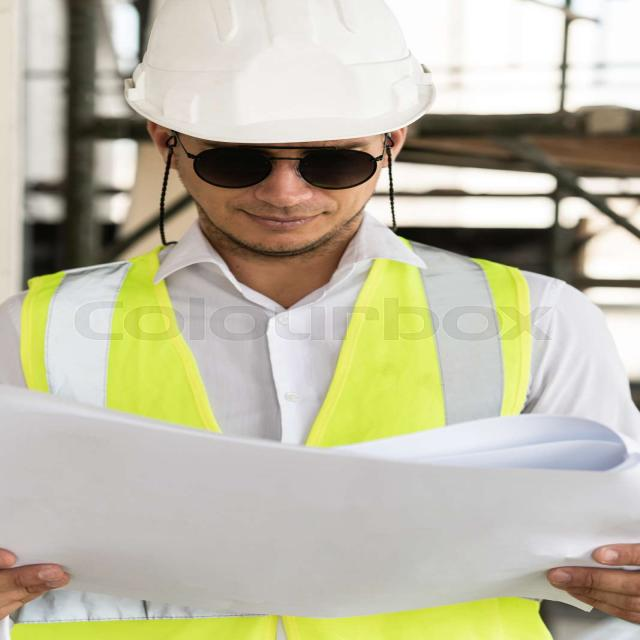goggles: (154, 130, 404, 193)
helmet: (129, 0, 448, 163)
vest: (17, 241, 604, 639)
